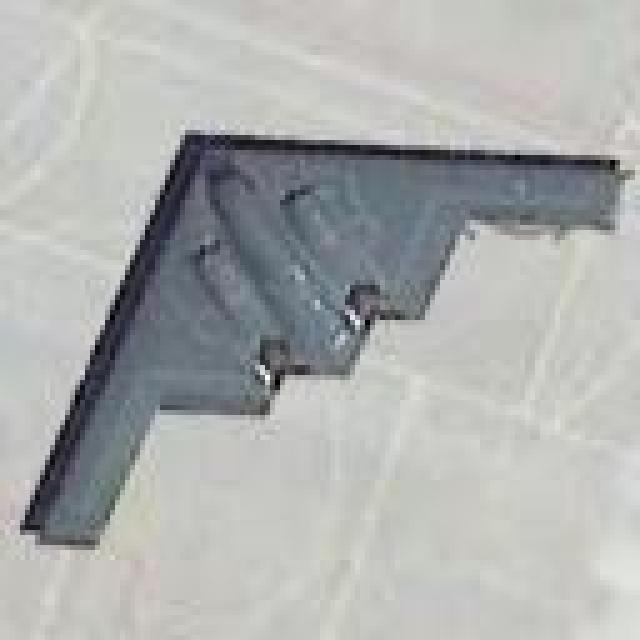B-2_TopDown: (15, 120, 635, 550)
